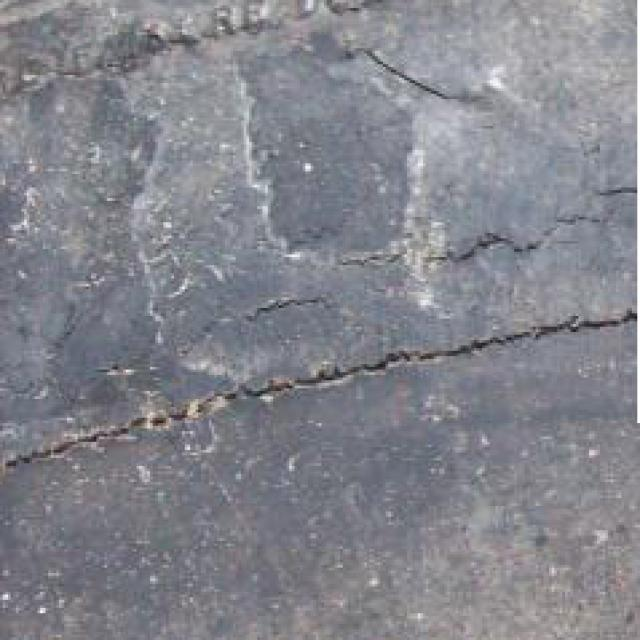Cracks: (0, 2, 640, 483)
